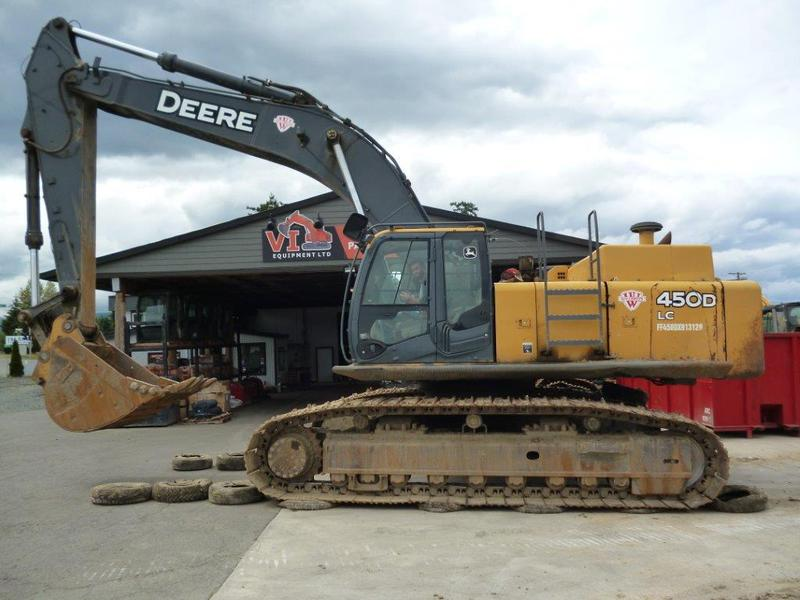shovel: (21, 11, 777, 518)
